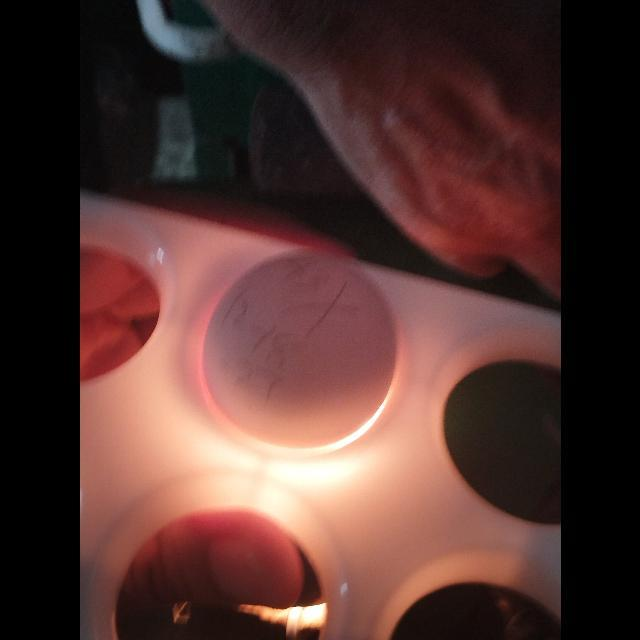Fertile: (195, 246, 402, 454)
